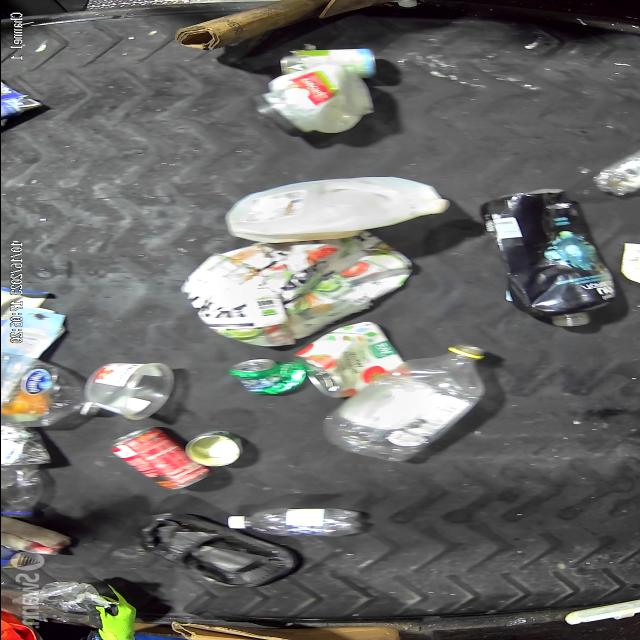can: (294, 324, 399, 398), (105, 429, 205, 488), (175, 430, 243, 470), (228, 360, 304, 392)
milk_jug: (225, 180, 440, 240)
non_white_jug: (476, 185, 610, 328)
plastic_bottle: (315, 340, 497, 460), (224, 504, 358, 542), (0, 425, 51, 516)
